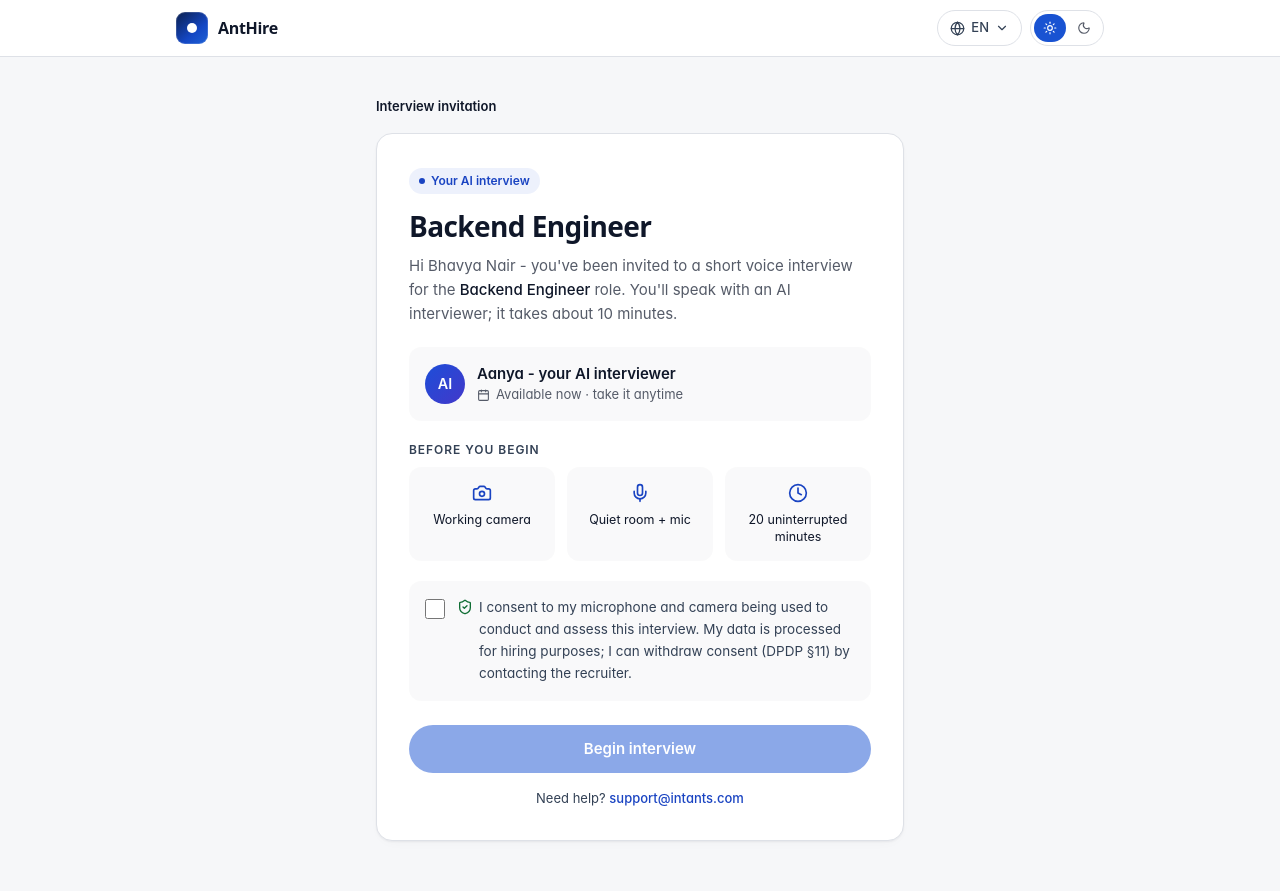
Test: InterviewInvite - redeeming › reports a failed redeem in place rather than navigating nowhere
The image size is (1280, 891).
Expected: the heading "Backend Engineer" is shown, [409, 206, 651, 244]
Click the checkbox. click: (435, 609)
box: [425, 599, 445, 619]
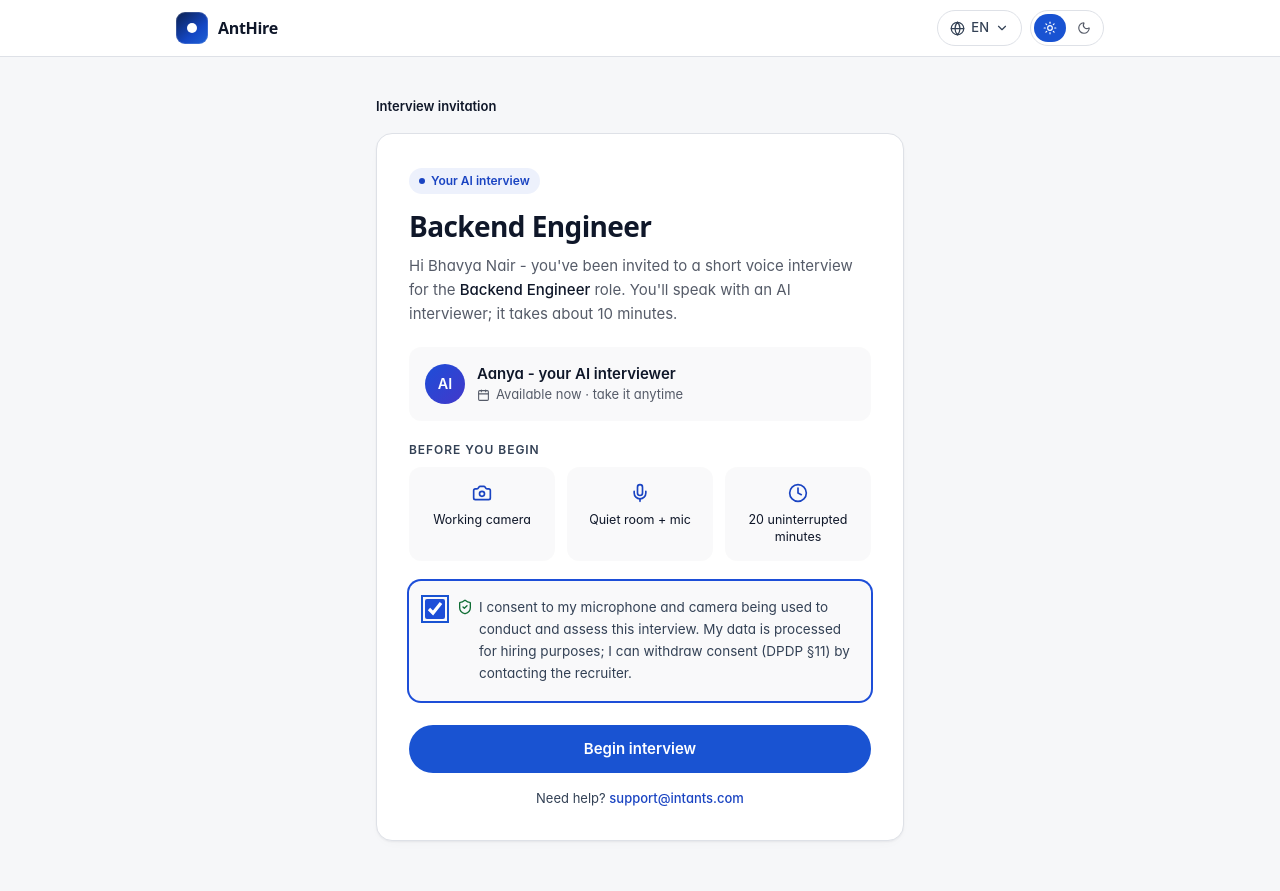
Click the button "Begin interview". click: (640, 749)
box: [409, 725, 871, 773]
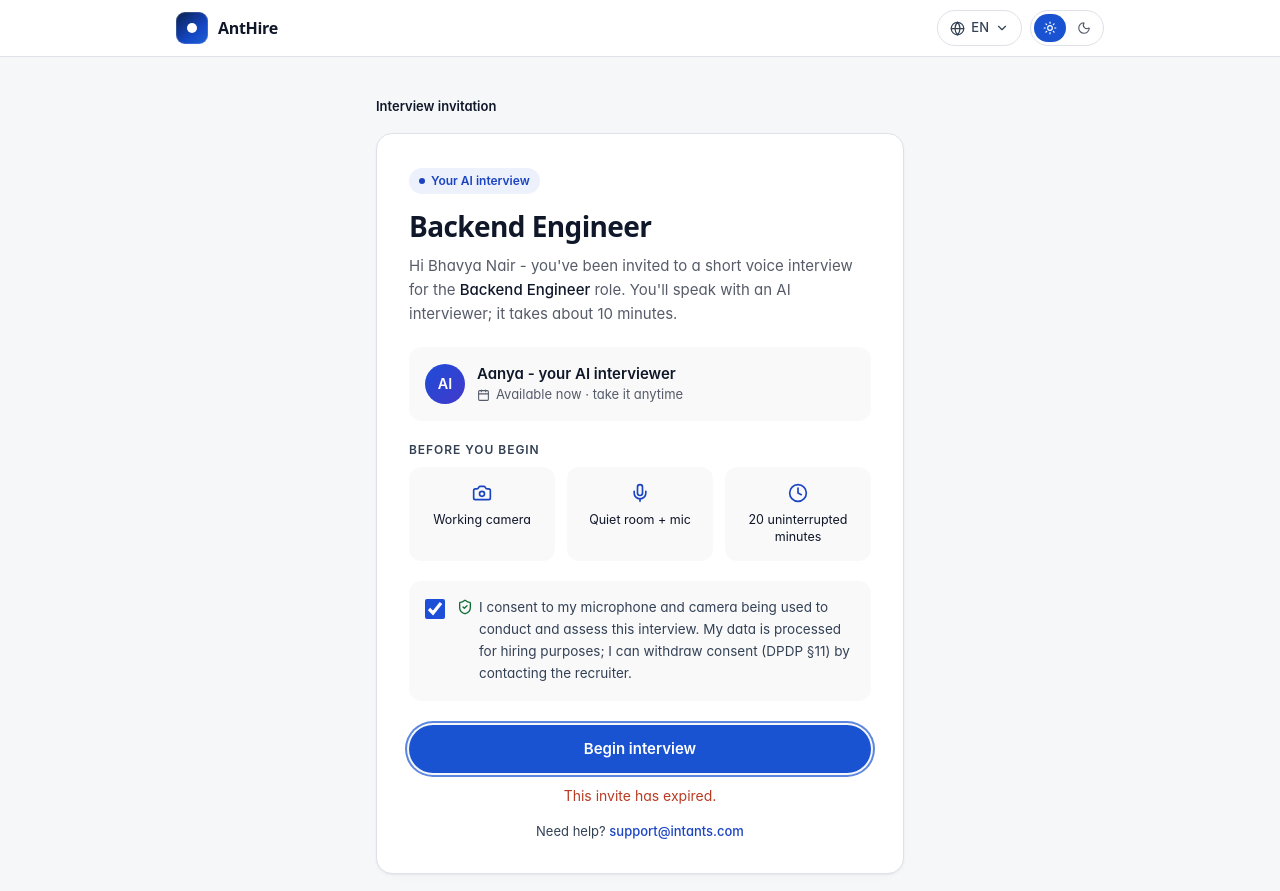
Expected: the text "This invite has expired." is shown, [564, 787, 716, 804]
